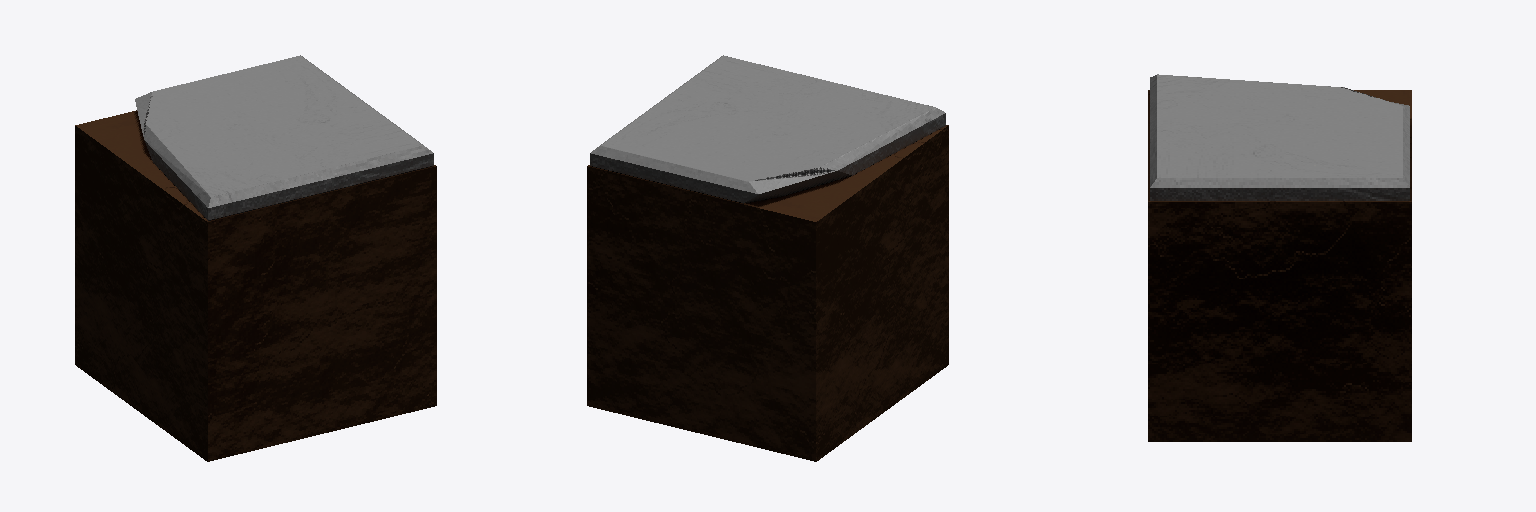
3 renders of one model, left to right at view 1: azimuth 30°, elevation 25°; view 2: azimuth 150°, elevation 25°; view 3: azimuth 270°, elevation 25°, orthographic.
Visible parts, largest first — view 1: Cube.001_Cube.016; view 2: Cube.001_Cube.016; view 3: Cube.001_Cube.016.
Boxes of the visible parts, box(x1,y1,x2,y2) form: Cube.001_Cube.016: box(75, 55, 436, 461); Cube.001_Cube.016: box(587, 55, 948, 461); Cube.001_Cube.016: box(1148, 74, 1411, 441).
Size of the model in its own units: 1 by 1.08 by 1.
1 materials, 1 textured.